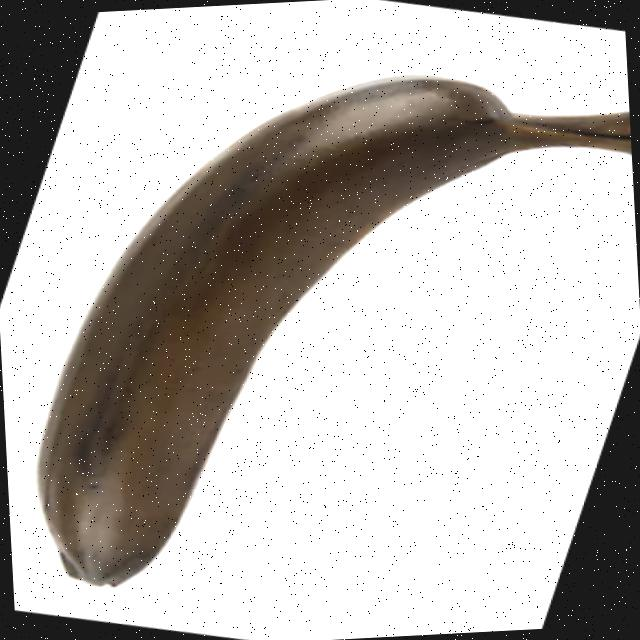Rotten: (14, 62, 640, 589)
